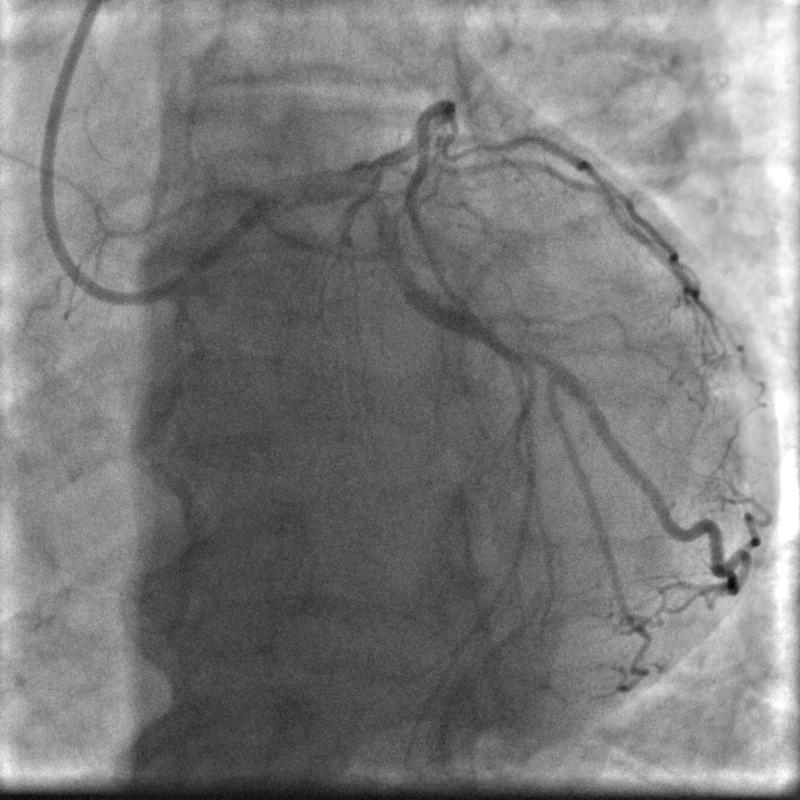Stenosis: (510, 344, 555, 369)
